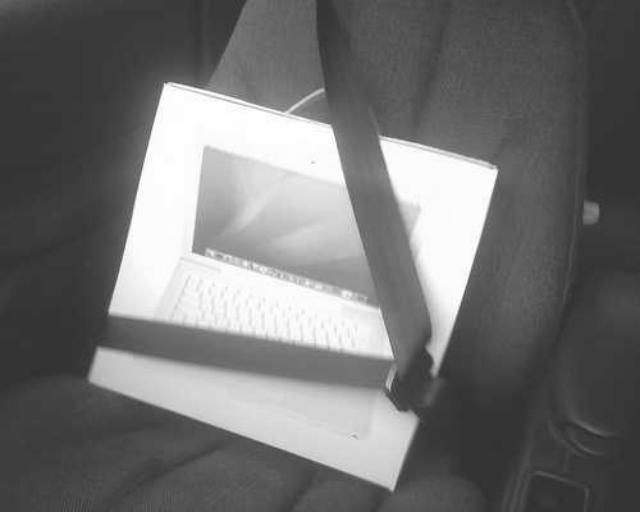Seatbelt: (94, 0, 438, 416)
